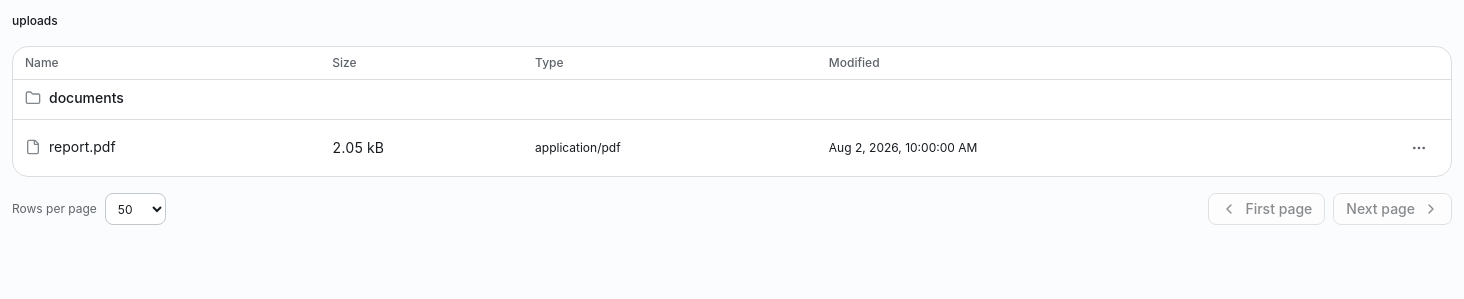
ObjectBrowser › hides upload and delete from a role that cannot change objects
The width and height of the screenshot is (1464, 299).
expect the link "report.pdf" is shown: met, box top-left (25, 136), bottom-right (116, 158)
What coordinates should you click on to do the following:
click the button named "actions for report.pdf"
I would click on:
 (1419, 148)
Its box is top-left (1399, 128), bottom-right (1439, 168).
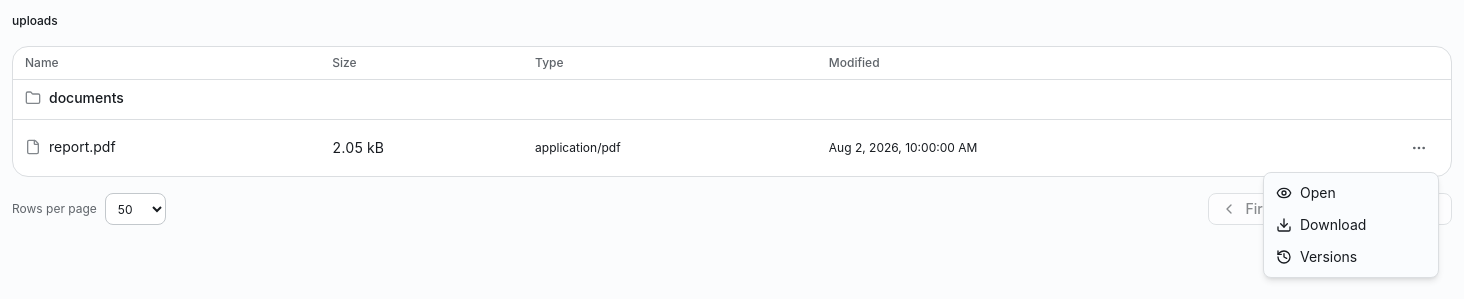
expect the menu item "Download" is shown: met, box top-left (1276, 216), bottom-right (1366, 233)
